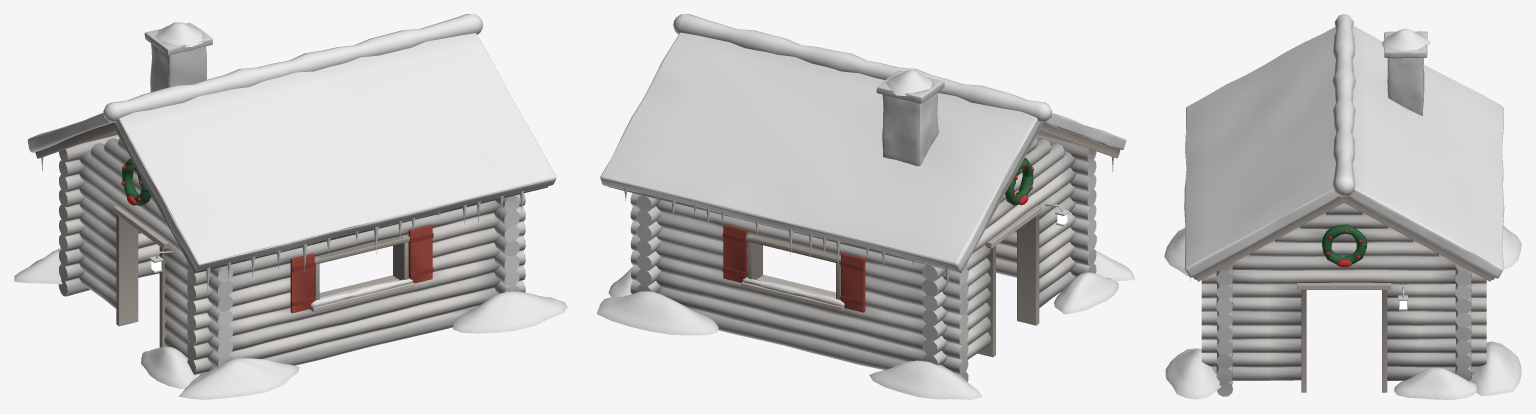
Rendered from cabin.glb.
3 renders of one model, left to right at view 1: azimuth 30°, elevation 25°; view 2: azimuth 150°, elevation 25°; view 3: azimuth 270°, elevation 25°, orthographic. The views are drawn at different scales.
Visible parts, largest first — view 1: cabin_snow, cabin_log, cabin_wood, cabin_logend, cabin_stone, cabin_ice, cabin_ribbon; view 2: cabin_snow, cabin_log, cabin_wood, cabin_logend, cabin_stone, cabin_ribbon, cabin_ice; view 3: cabin_snow, cabin_log, cabin_wood, cabin_logend, cabin_stone, cabin_ribbon.
Boxes of the visible parts, x1=… form: cabin_snow: x1=14, y1=14, x2=567, y2=399; cabin_log: x1=58, y1=135, x2=525, y2=374; cabin_wood: x1=35, y1=122, x2=547, y2=347; cabin_logend: x1=59, y1=138, x2=525, y2=374; cabin_stone: x1=144, y1=22, x2=212, y2=91; cabin_ice: x1=41, y1=157, x2=523, y2=293; cabin_ribbon: x1=121, y1=158, x2=150, y2=205; cabin_snow: x1=596, y1=14, x2=1135, y2=399; cabin_log: x1=630, y1=134, x2=1096, y2=381; cabin_wood: x1=608, y1=122, x2=1120, y2=357; cabin_logend: x1=630, y1=137, x2=1096, y2=381; cabin_stone: x1=876, y1=70, x2=944, y2=166; cabin_ribbon: x1=1005, y1=158, x2=1034, y2=205; cabin_ice: x1=624, y1=157, x2=1113, y2=292; cabin_snow: x1=1164, y1=14, x2=1521, y2=399; cabin_log: x1=1201, y1=202, x2=1486, y2=385; cabin_wood: x1=1193, y1=196, x2=1494, y2=392; cabin_logend: x1=1216, y1=263, x2=1471, y2=396; cabin_stone: x1=1384, y1=31, x2=1427, y2=115; cabin_ribbon: x1=1322, y1=224, x2=1367, y2=267.
Size of the model in its own units: 8.59 by 5.77 by 7.28.
